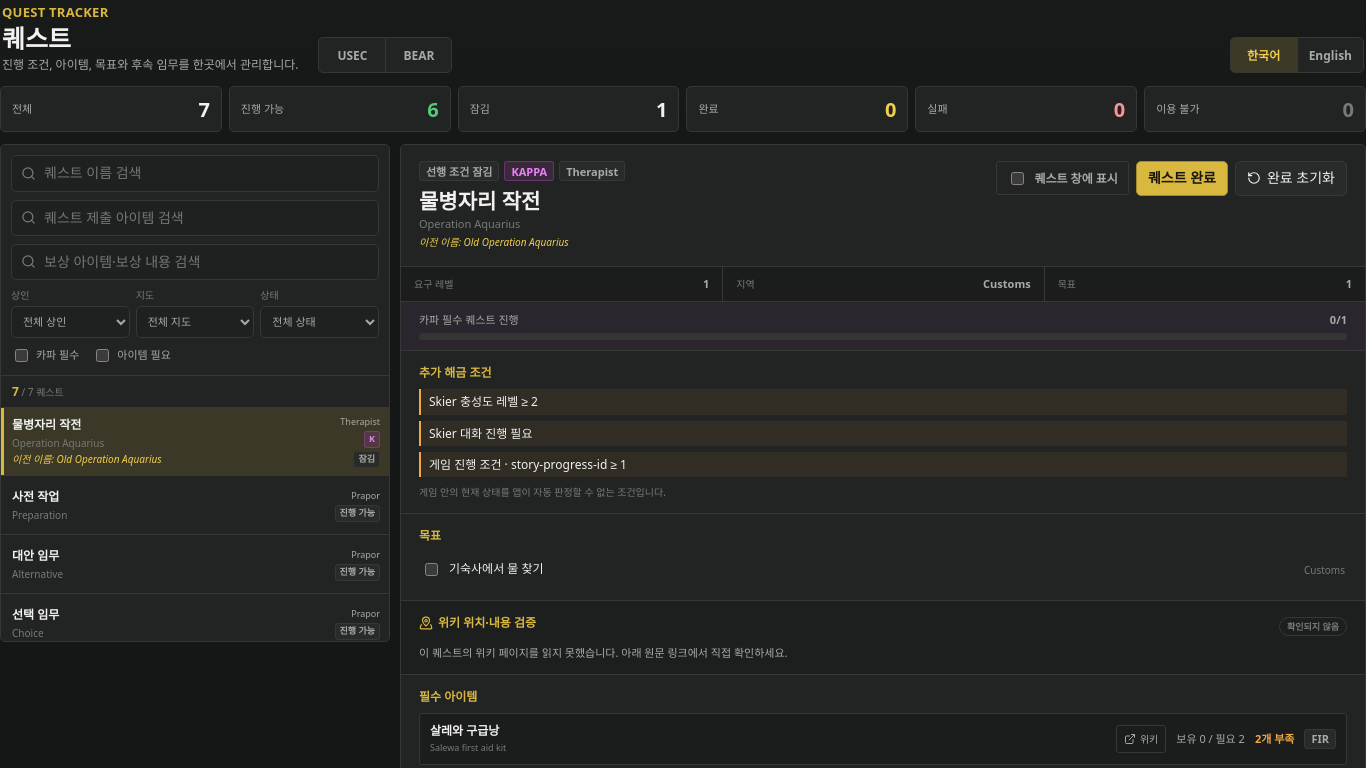
it: QuestsPage › explains name matches hidden by other filters and clears those filters without losing the query
The image size is (1366, 768).
Type "물병자리" into the search field named "퀘스트 검색" at [195, 173], box [11,155,379,192]
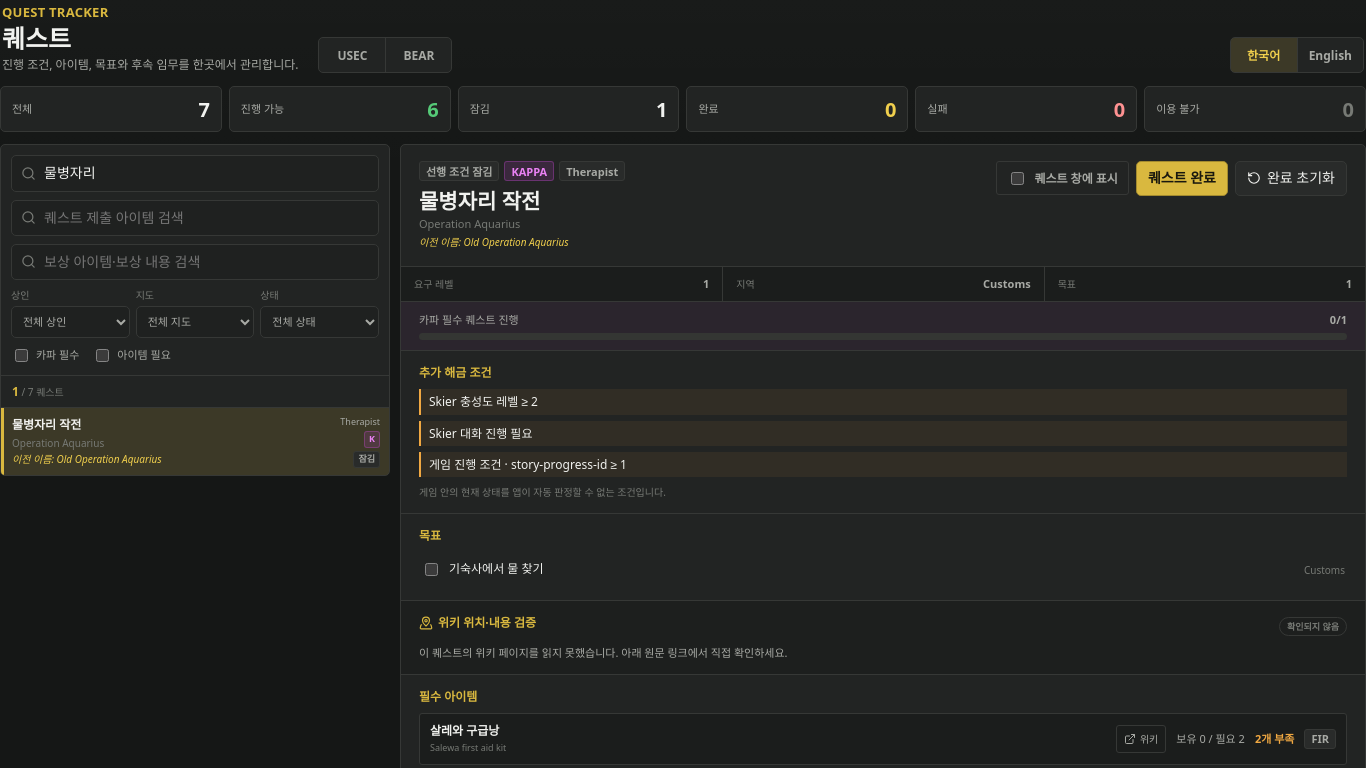
Select "Prapor" in the dropdown labelled "상인" at [70, 322], box [11,306,130,338]
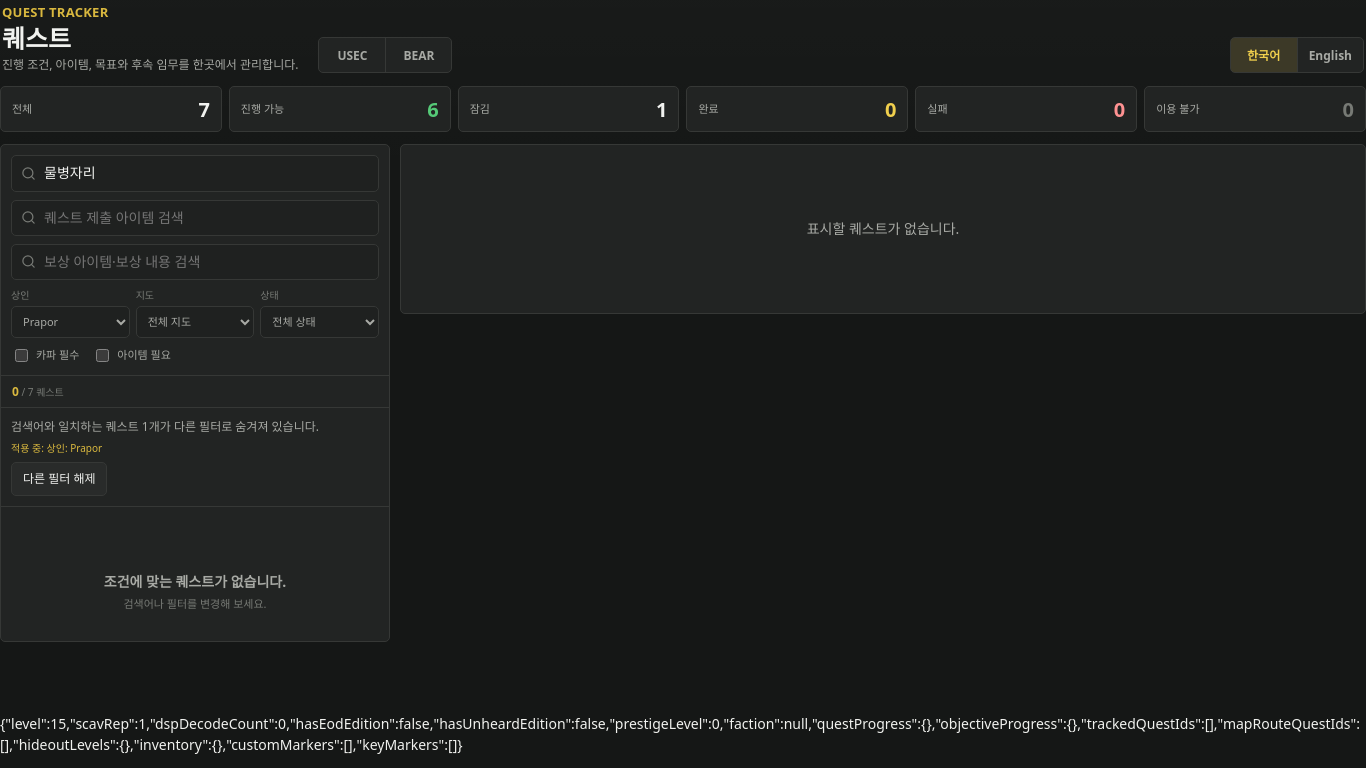
Type "존재하지 않는 보상" into the search field named "보상 검색" at [195, 262], box [11,244,379,280]
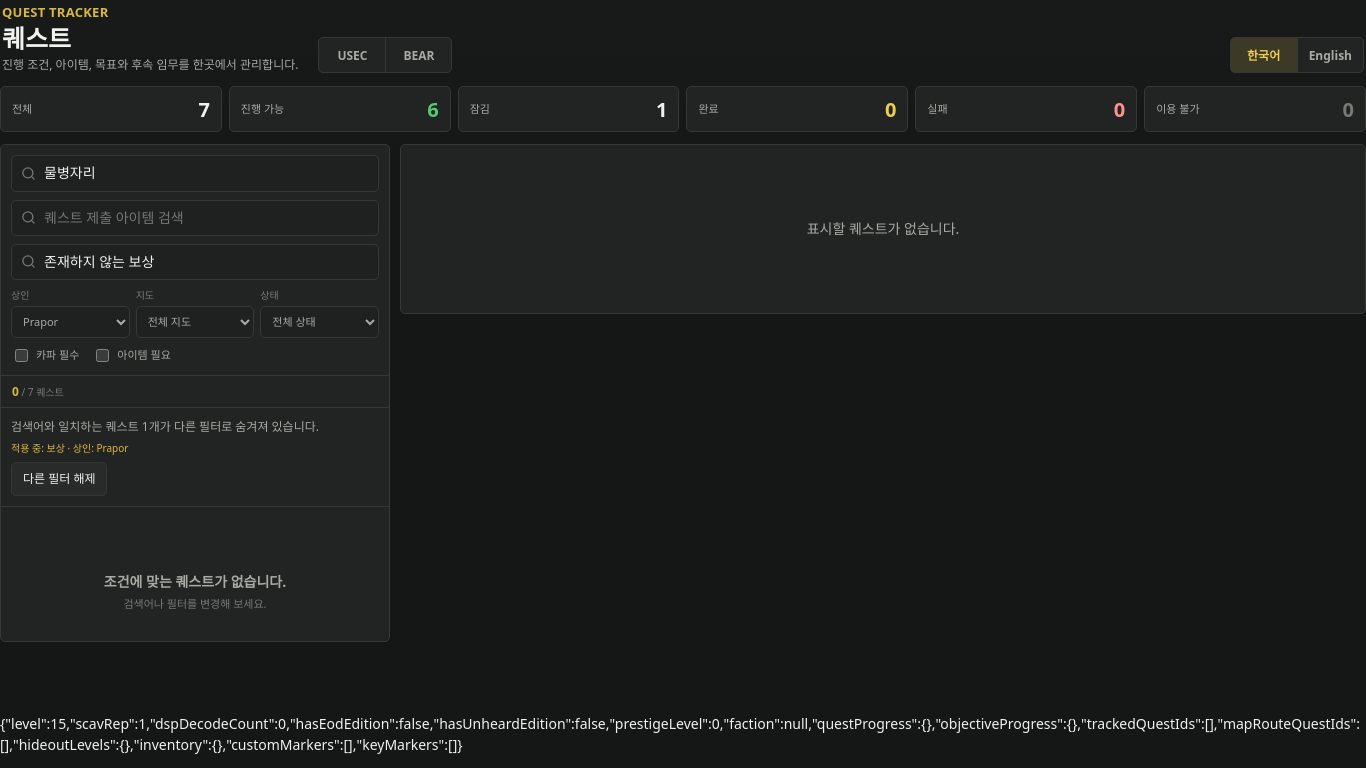
expect the text "검색어와 일치하는 퀘스트 1개가 다른 필터로 숨겨져 있습니다." is shown: met, box [11,418,319,435]
Click the button "다른 필터 해제" at [59, 479], box [11,462,108,496]
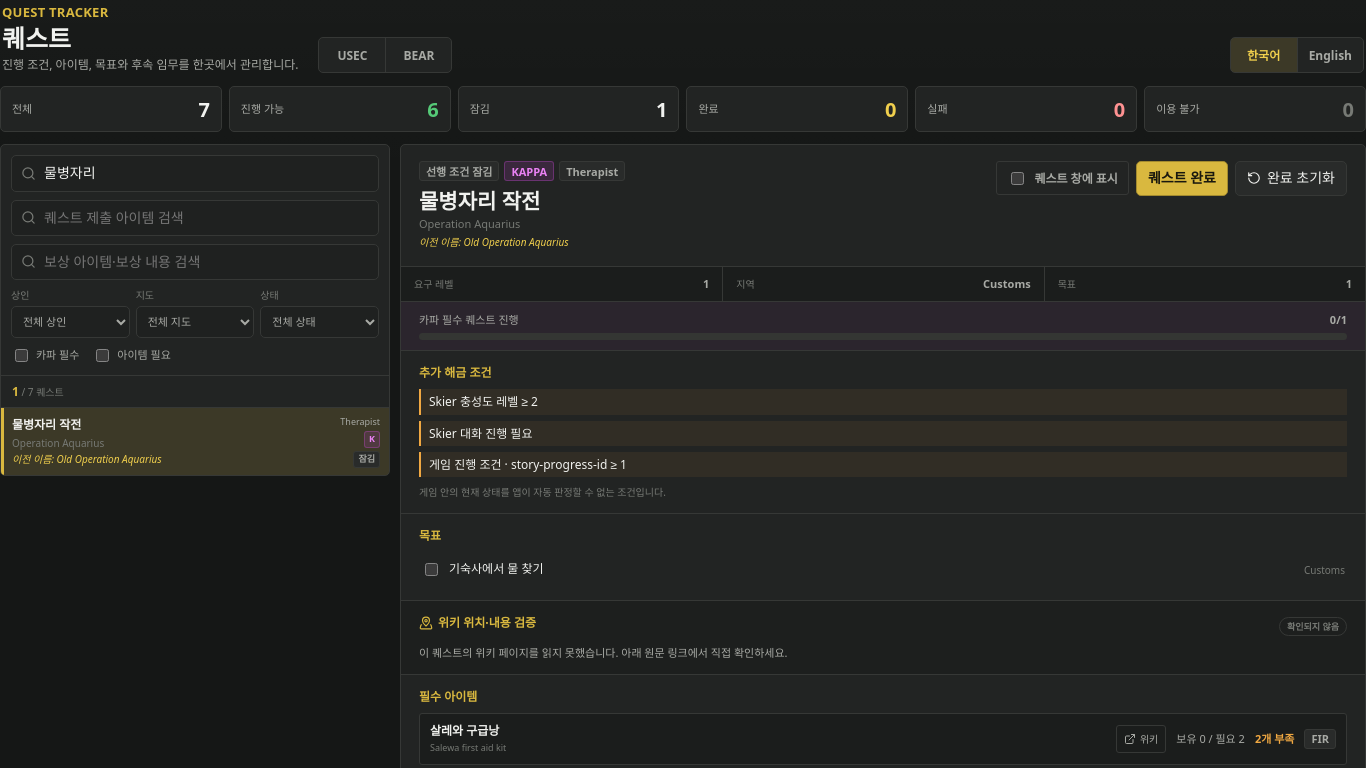
expect the search field named "보상 검색" is empty: met, box [11,244,379,280]
expect the button "물병자리 작전" is shown: met, box [1,408,389,475]
expect the button "다른 필터 해제" is gone: met
